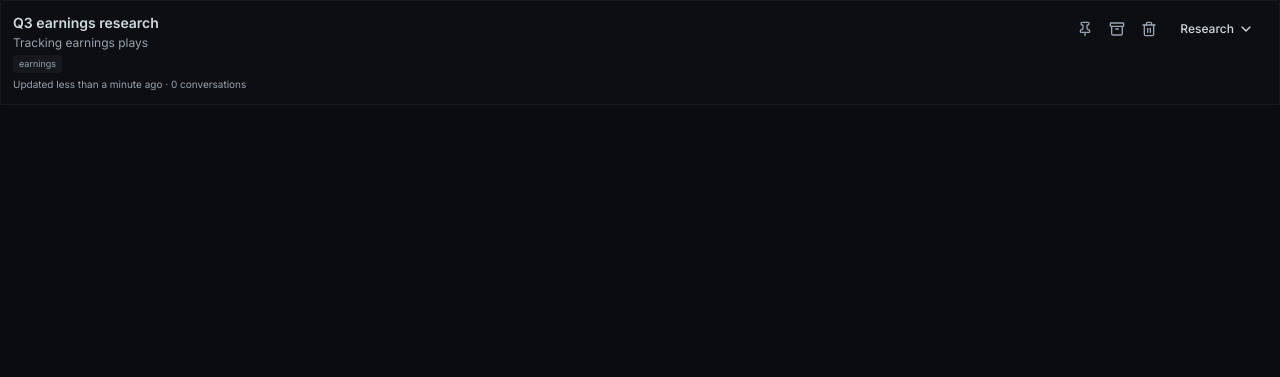
it: WorkspaceHeader — notes › renders existing notes with their kind label
Click the button with test id "workspace-header-research-toggle": (1217, 29) [1167, 13, 1267, 45]
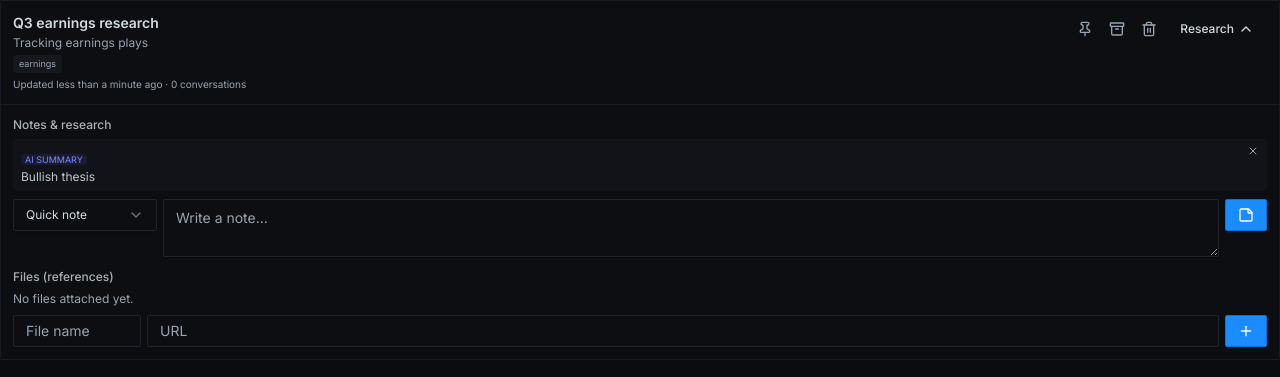
Expected: the element with test id "workspace-header-note-1" shows "Bullish thesis", [21, 168, 95, 184]
Expected: the element with test id "workspace-header-note-1" shows "AI summary", [25, 154, 83, 164]
